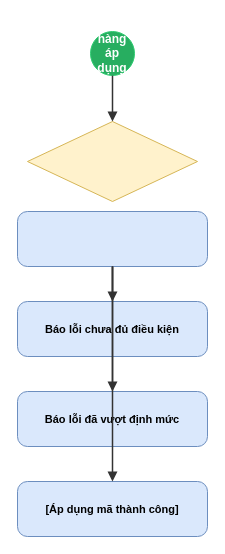
Image size: 225x554. Some labels were removed from this diagram. Here are the shapes that lost their labels. From the top down, the box of each, then its label:
(26, 120, 198, 202): Kiểm tra đơn hàng >= 150k?
(16, 210, 208, 266): ng
